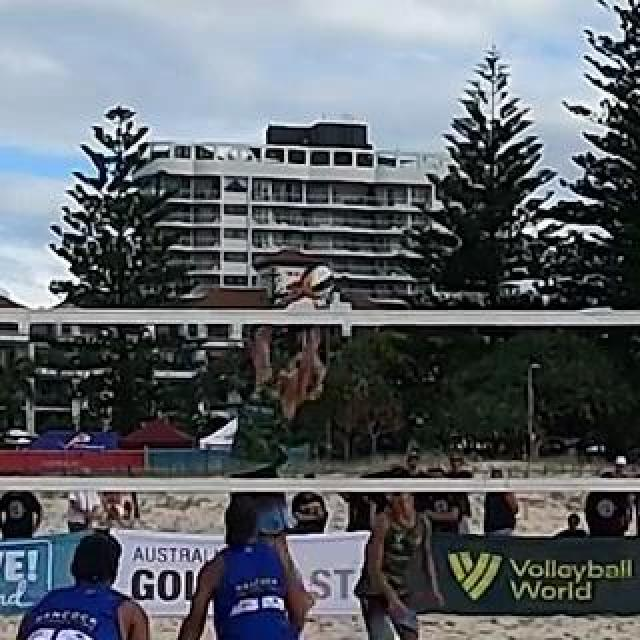volleyball: (301, 263, 333, 299)
